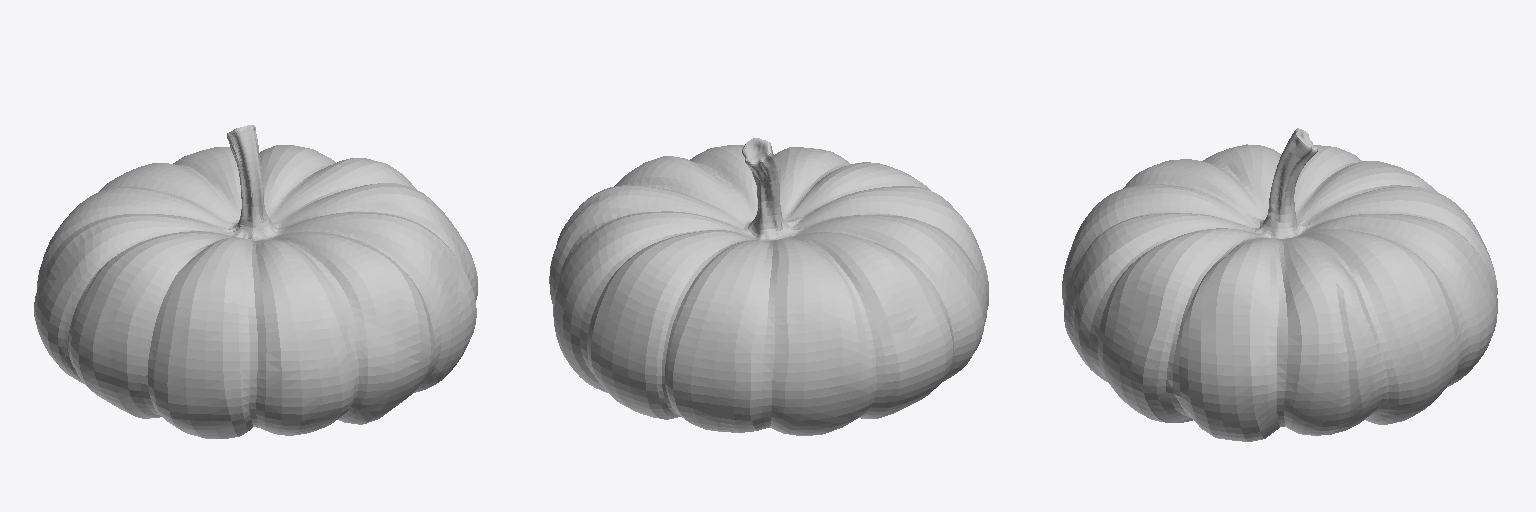
File: pumpkin.obj
3 views of the same model, side by side, from view 1: azimuth 30°, elevation 25°; view 2: azimuth 150°, elevation 25°; view 3: azimuth 270°, elevation 25° (orthographic).
Parts seen in each view (by area): view 1: pumpkin_; view 2: pumpkin_; view 3: pumpkin_.
Boxes of the visible parts, x1=… form: pumpkin_: x1=34, y1=125, x2=477, y2=438; pumpkin_: x1=549, y1=138, x2=988, y2=435; pumpkin_: x1=1062, y1=128, x2=1497, y2=441.
Bounding box in the file's own units: 1.02 × 0.6269 × 0.9994.